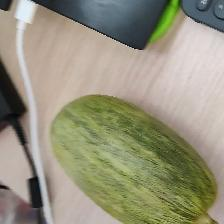gua: (66, 97, 197, 218)
